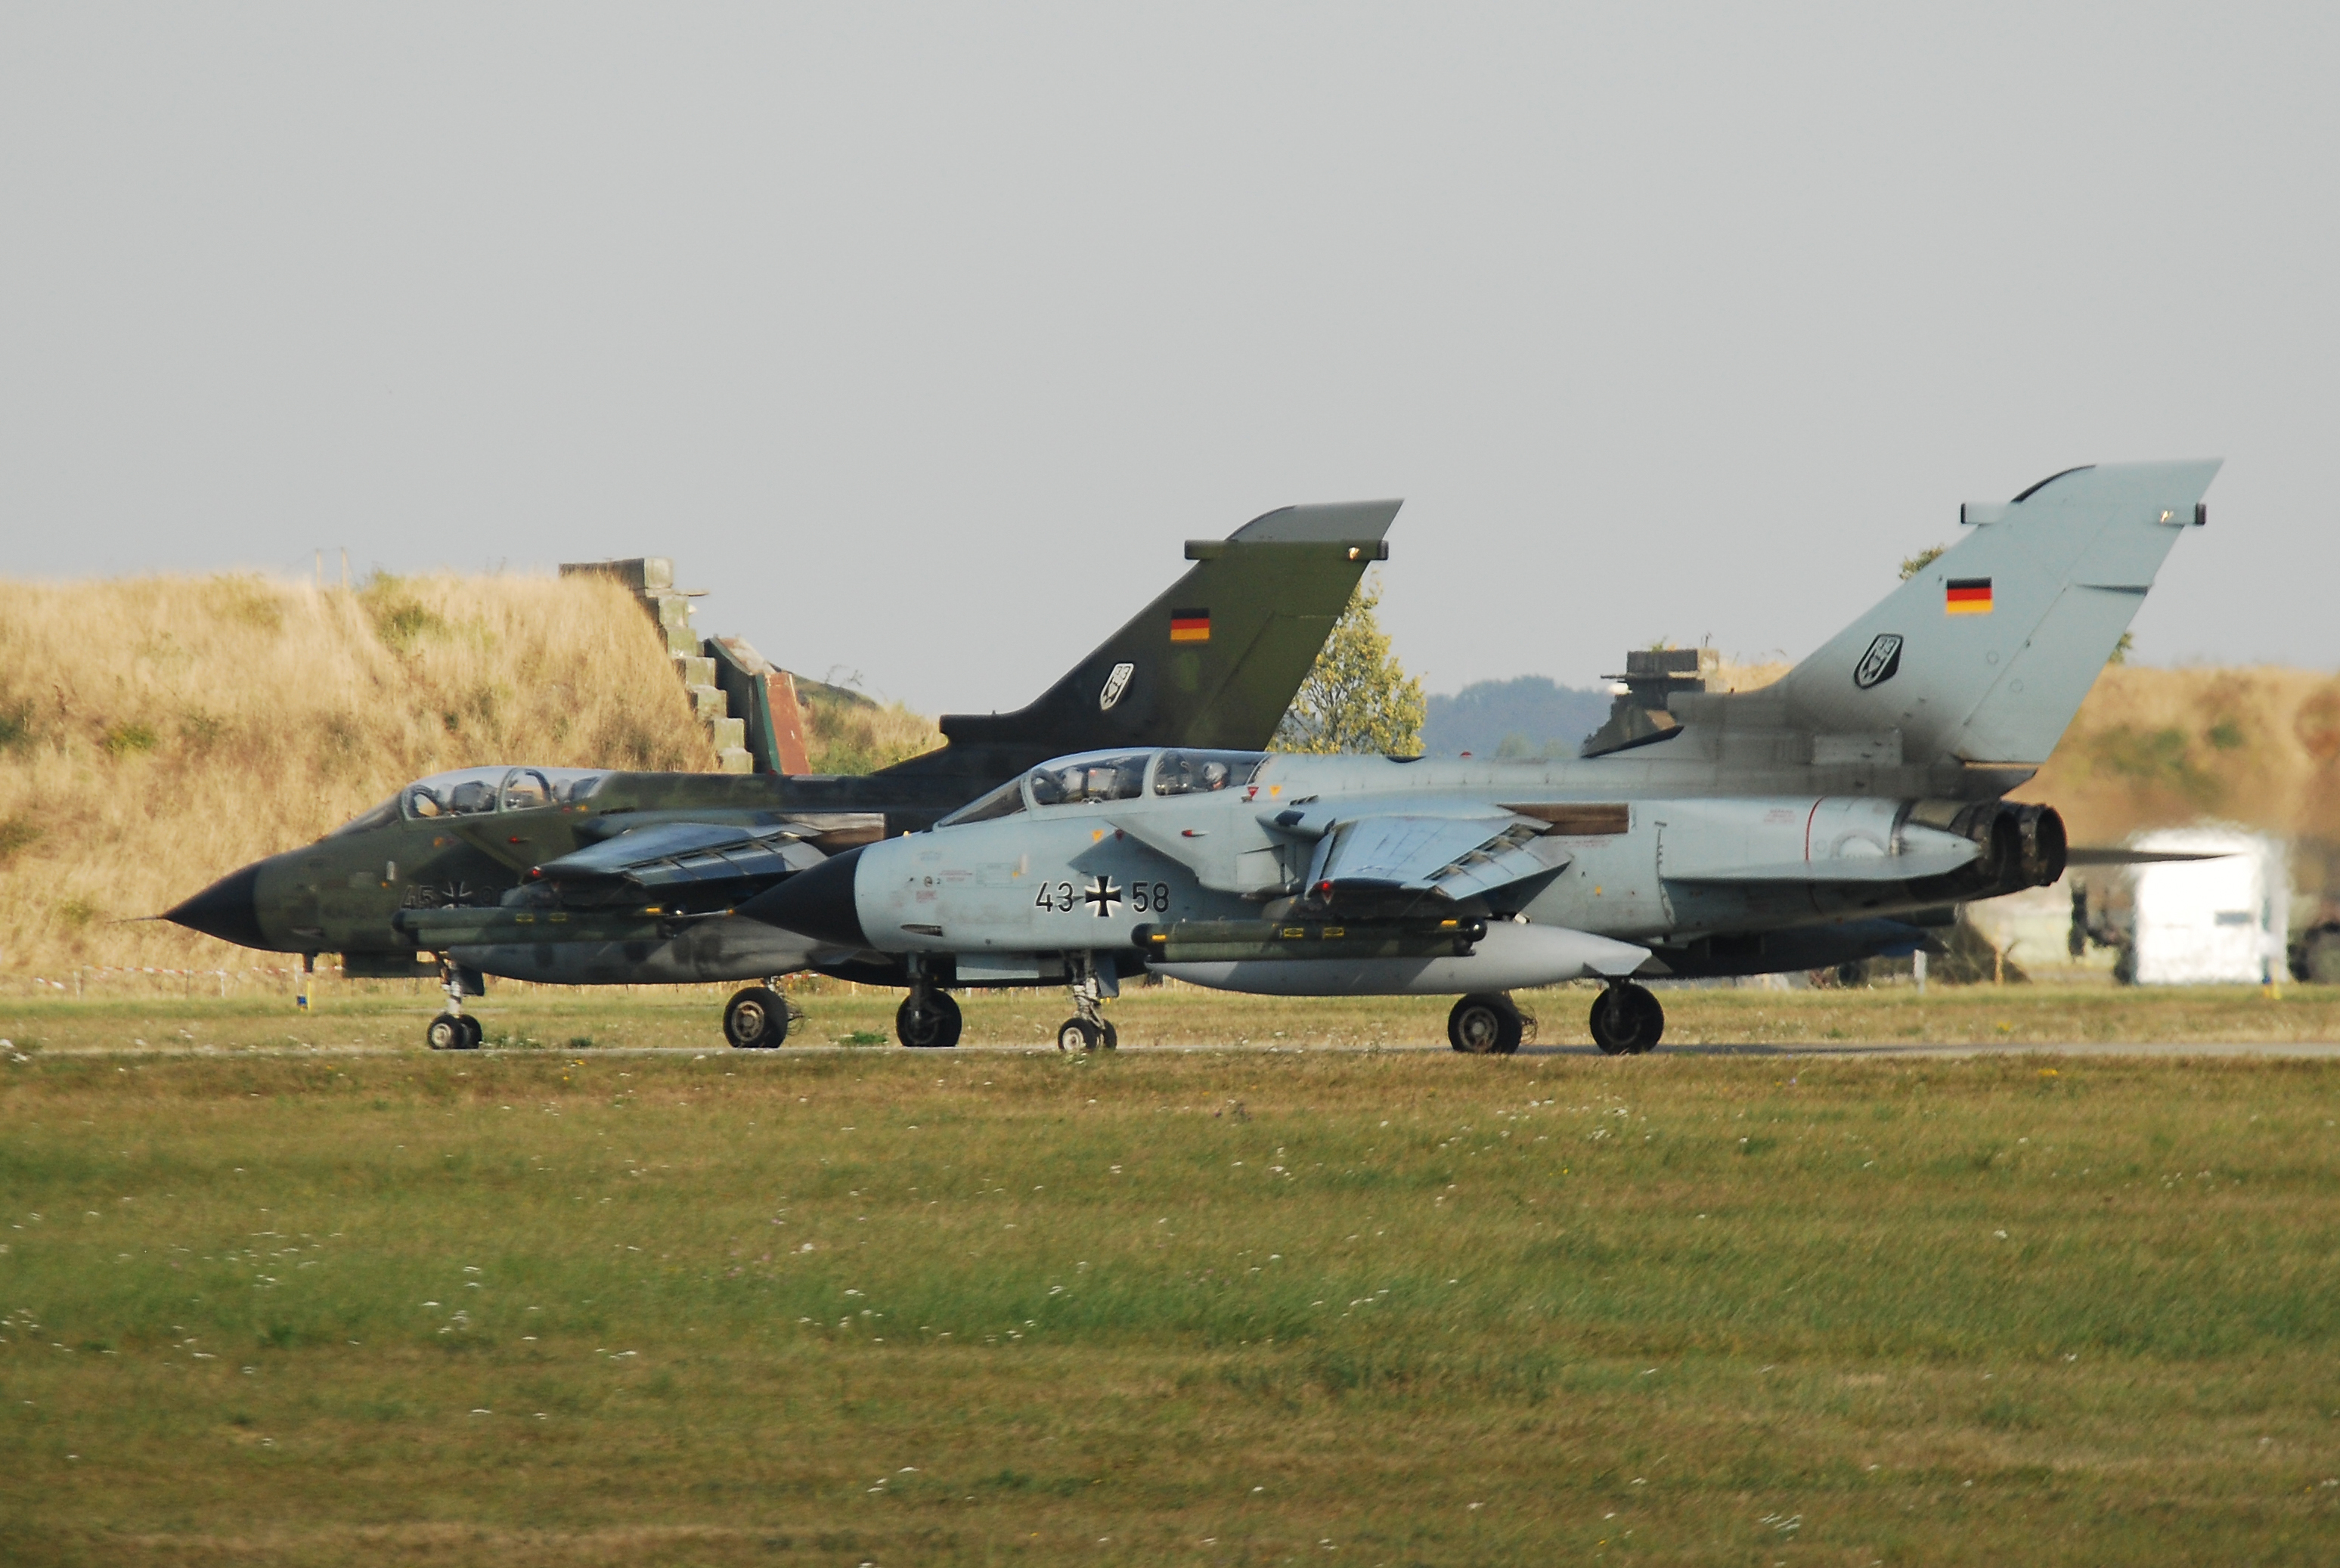Tornado: (662, 453, 2249, 1055), (105, 495, 1405, 1050)
